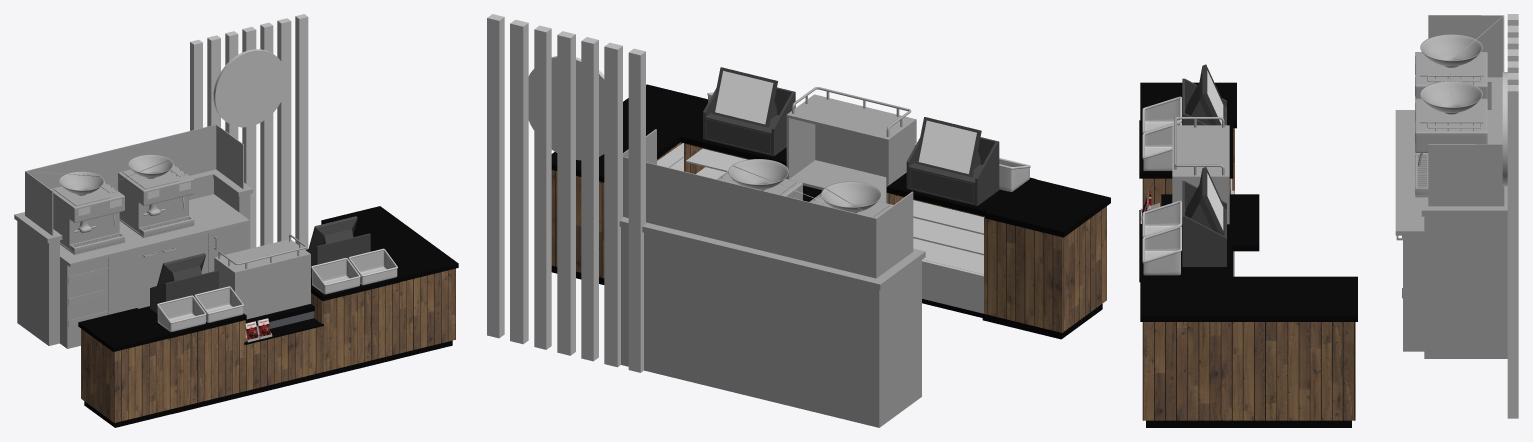
The model's file is CoffeStand.fbx.
3 renders of one model, left to right at view 1: azimuth 30°, elevation 25°; view 2: azimuth 150°, elevation 25°; view 3: azimuth 270°, elevation 25°, orthographic. The views are drawn at different scales.
Visible parts, largest first — view 1: Cafetera, FrenteMesada, MaderasVerticales, Mesada, AccesoriosCafetera, Decoracion, Logo, Registradora, Cesta4, Cesta2, Cesta1, Cesta3; view 2: Cafetera, MaderasVerticales, AccesoriosCafetera, FrenteMesada, Mesada, Decoracion, Registradora, PantallaRegistradora, EstanteTrasera, Logo, Estante6, Estante7 (+3 smaller); view 3: Cafetera, FrenteMesada, Mesada, AccesoriosCafetera, Registradora, MaderasVerticales, Decoracion, Cesta1, Cesta3, PantallaRegistradora, Cesta2, Cesta4 (+2 smaller).
Boxes of the visible parts, left/top/right/bottom form: Cafetera: left=14, top=163, right=252, bottom=348; FrenteMesada: left=81, top=268, right=455, bottom=422; MaderasVerticales: left=190, top=14, right=308, bottom=249; Mesada: left=78, top=206, right=458, bottom=427; AccesoriosCafetera: left=25, top=124, right=243, bottom=235; Decoracion: left=214, top=234, right=310, bottom=319; Logo: left=213, top=49, right=286, bottom=127; Registradora: left=150, top=216, right=370, bottom=313; Cesta4: left=157, top=297, right=205, bottom=331; Cesta2: left=312, top=259, right=359, bottom=294; Cesta1: left=349, top=250, right=397, bottom=285; Cesta3: left=195, top=288, right=243, bottom=322; Cafetera: left=619, top=171, right=925, bottom=427; MaderasVerticales: left=487, top=14, right=645, bottom=372; AccesoriosCafetera: left=623, top=129, right=913, bottom=278; FrenteMesada: left=551, top=142, right=1106, bottom=332; Mesada: left=551, top=84, right=1110, bottom=339; Decoracion: left=786, top=87, right=916, bottom=203; Registradora: left=703, top=67, right=999, bottom=205; PantallaRegistradora: left=715, top=71, right=976, bottom=173; EstanteTrasera: left=922, top=259, right=983, bottom=313; Logo: left=528, top=56, right=604, bottom=160; Estante6: left=913, top=218, right=983, bottom=255; Estante7: left=913, top=200, right=983, bottom=234; Cafetera: left=1395, top=52, right=1507, bottom=358; FrenteMesada: left=1142, top=128, right=1355, bottom=420; Mesada: left=1139, top=82, right=1357, bottom=427; AccesoriosCafetera: left=1420, top=15, right=1504, bottom=206; Registradora: left=1182, top=64, right=1226, bottom=266; MaderasVerticales: left=1507, top=14, right=1518, bottom=418; Decoracion: left=1172, top=117, right=1229, bottom=224; Cesta1: left=1143, top=228, right=1180, bottom=275; Cesta3: left=1143, top=124, right=1179, bottom=170; PantallaRegistradora: left=1207, top=70, right=1223, bottom=230; Cesta2: left=1145, top=203, right=1179, bottom=235; Cesta4: left=1145, top=99, right=1179, bottom=130.
Size of the model in its own units: 344 by 225 by 237.
